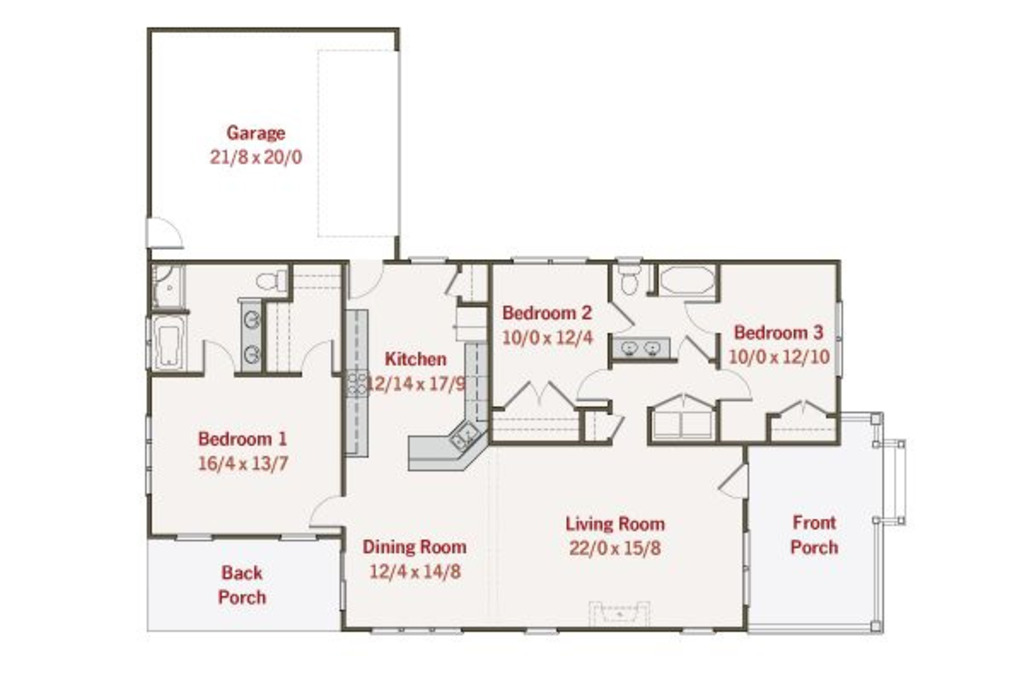door: (496, 372, 577, 417), (681, 297, 731, 334), (304, 489, 349, 530), (672, 330, 717, 370), (300, 337, 339, 382), (715, 461, 759, 500), (713, 367, 754, 407), (346, 258, 383, 302), (199, 339, 234, 377), (575, 370, 619, 400), (603, 301, 641, 334), (144, 217, 183, 245), (646, 396, 712, 411), (439, 261, 465, 298), (777, 402, 834, 416)
large_sink: (246, 263, 295, 295), (613, 252, 645, 296)
small_sink: (238, 299, 266, 376), (610, 332, 675, 363)
tub: (150, 312, 189, 374), (656, 256, 718, 294)
twin_sink: (443, 413, 492, 460)
window: (134, 412, 164, 510), (828, 301, 853, 382), (509, 251, 589, 274), (366, 622, 470, 639), (740, 529, 752, 609), (277, 529, 322, 547), (170, 531, 218, 540)
